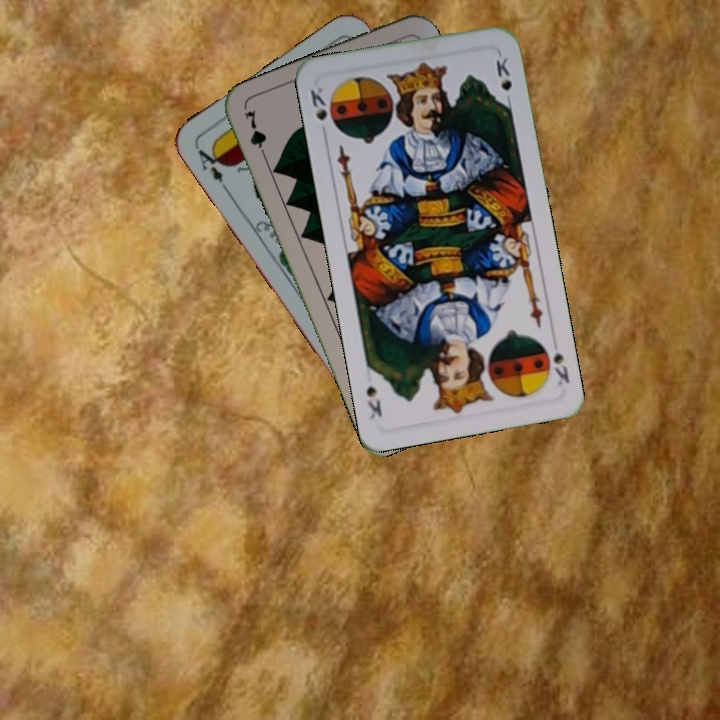EA: (192, 140, 231, 194)
G7: (239, 106, 270, 164)
SK: (306, 83, 330, 140), (549, 346, 572, 389)
